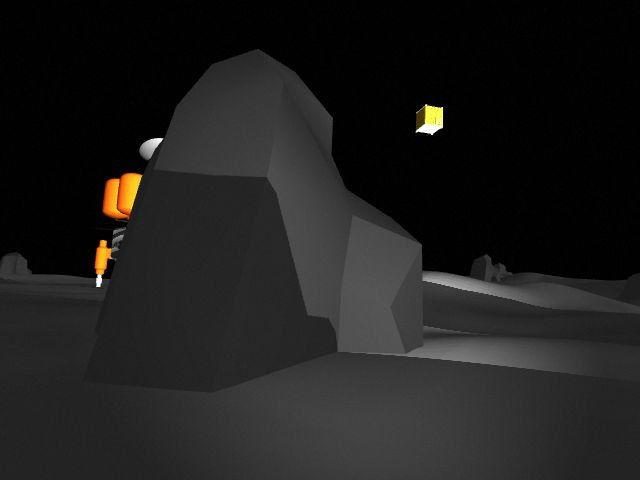homebase: (89, 134, 251, 292)
